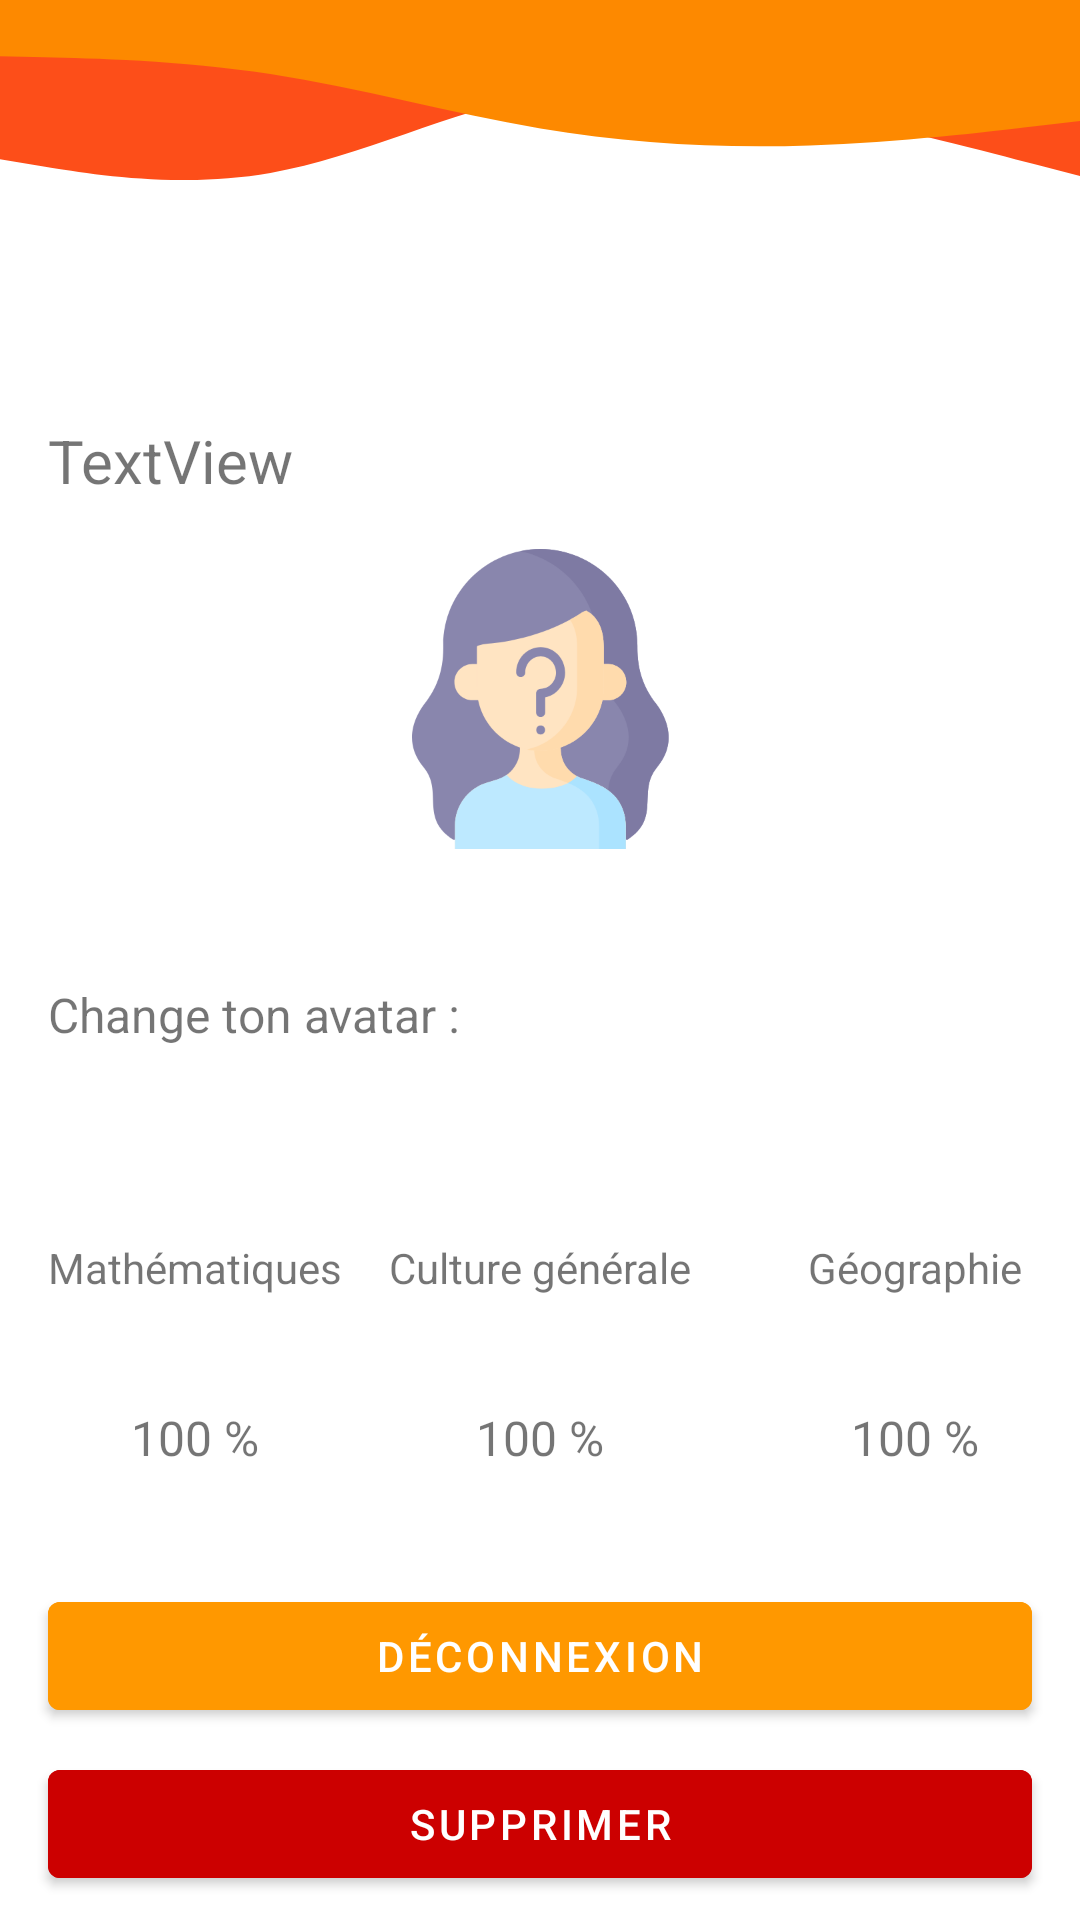

Where icons sit on this 1080w x 1920h app screen, as (x1, y1, x2, y2):
anonymity: (412, 549, 669, 849)
